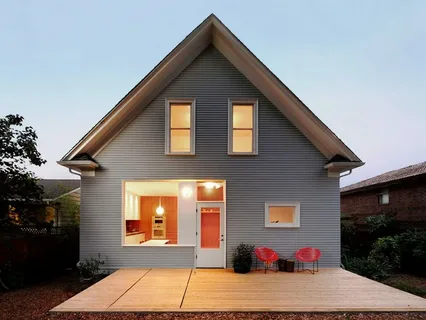private_hause: (74, 60, 348, 274)
